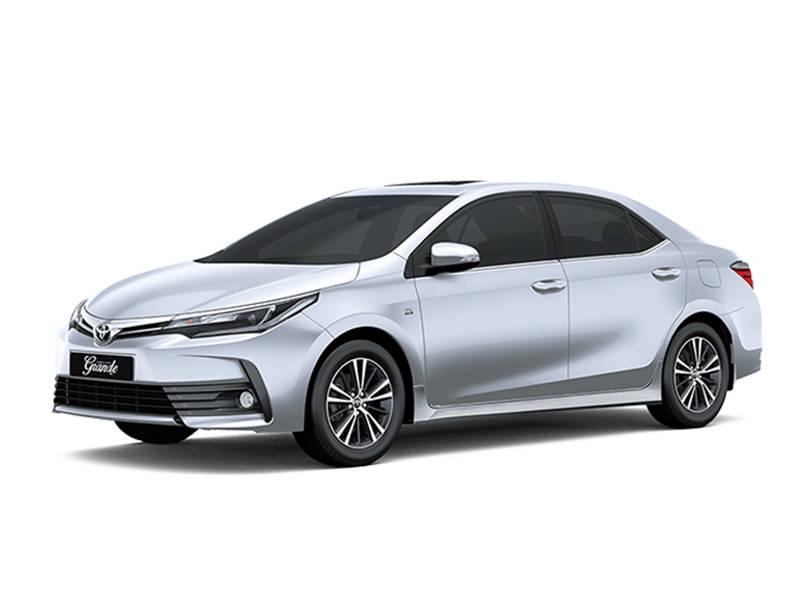Sedan: (47, 150, 777, 507)
